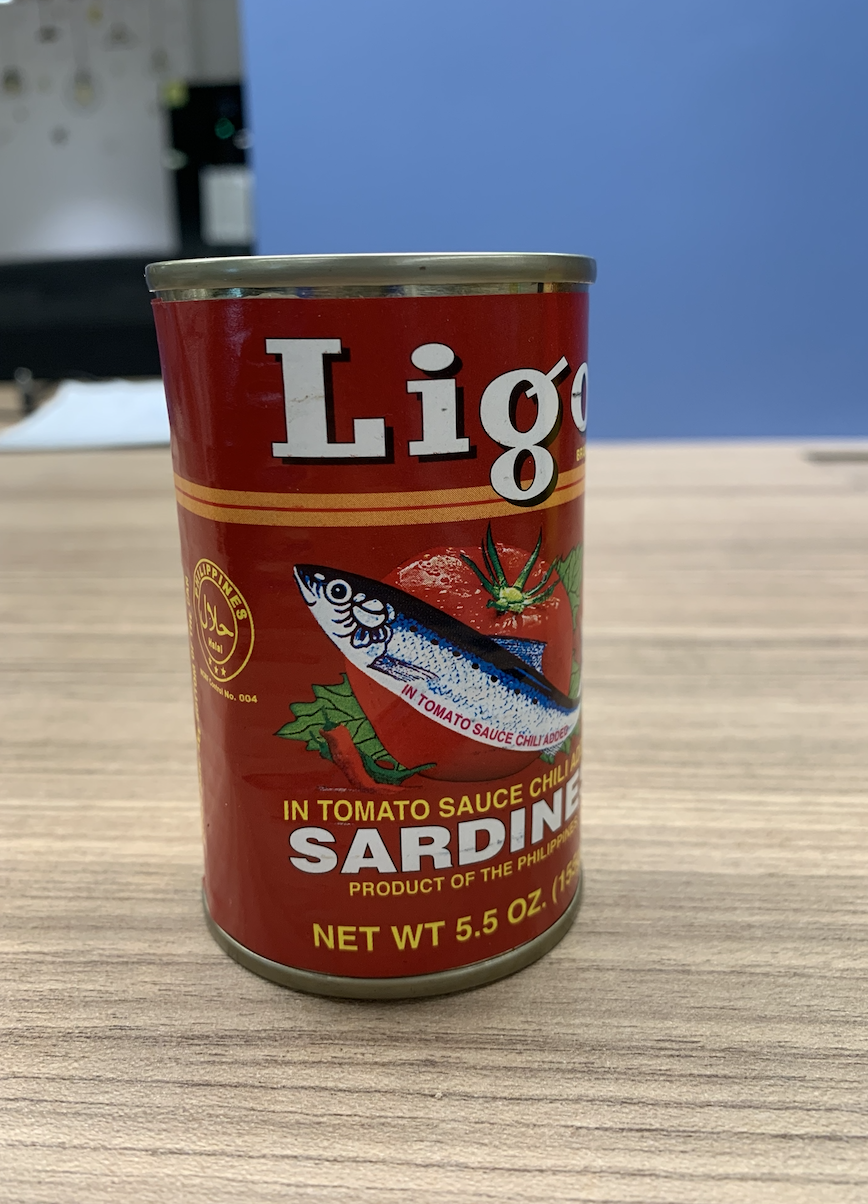sardines_150g: (191, 271, 581, 958)
